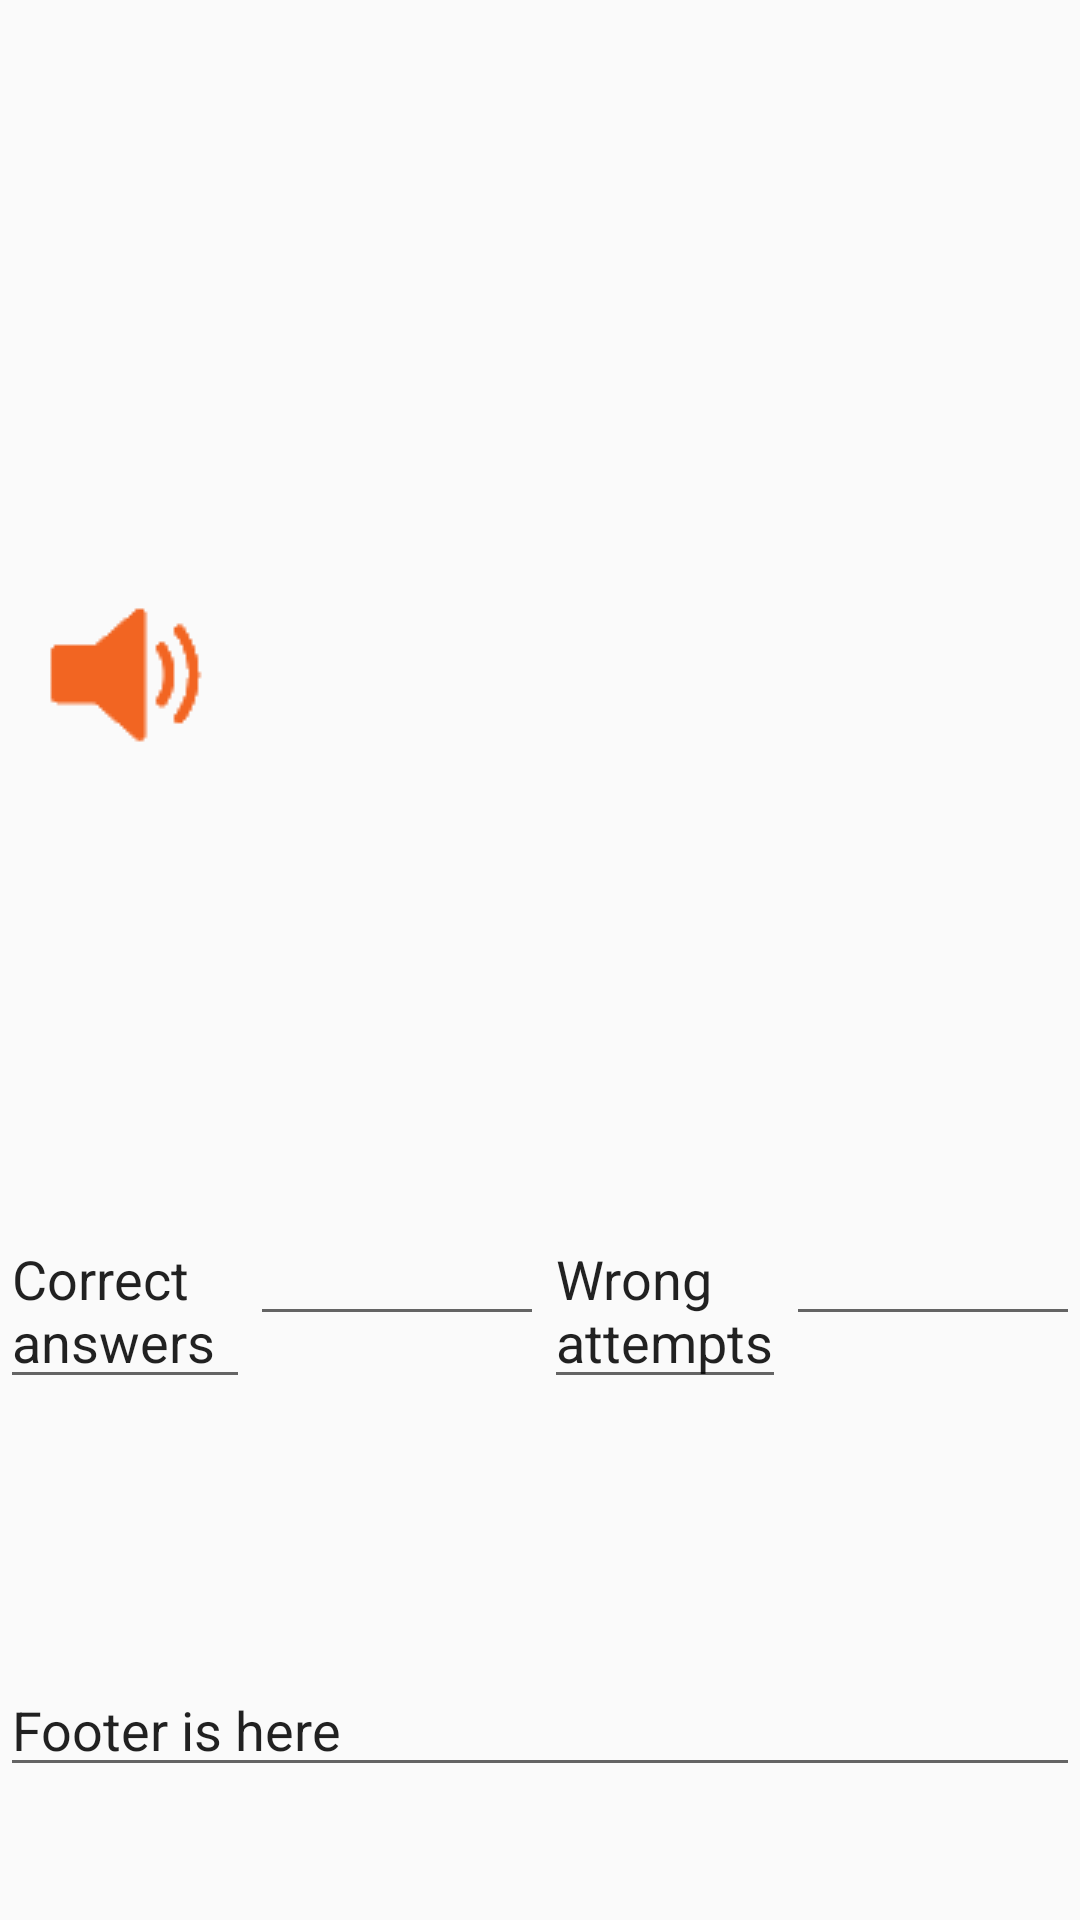

Icons on this 1080x1920 Android screen, each with the point to tap as (x=x, y=y):
sound: (x=126, y=675)
